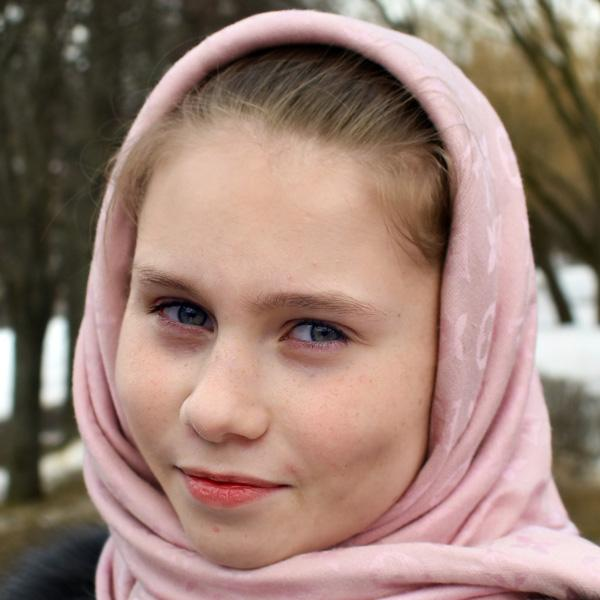Eyes: (268, 305, 360, 359), (140, 286, 221, 342)
